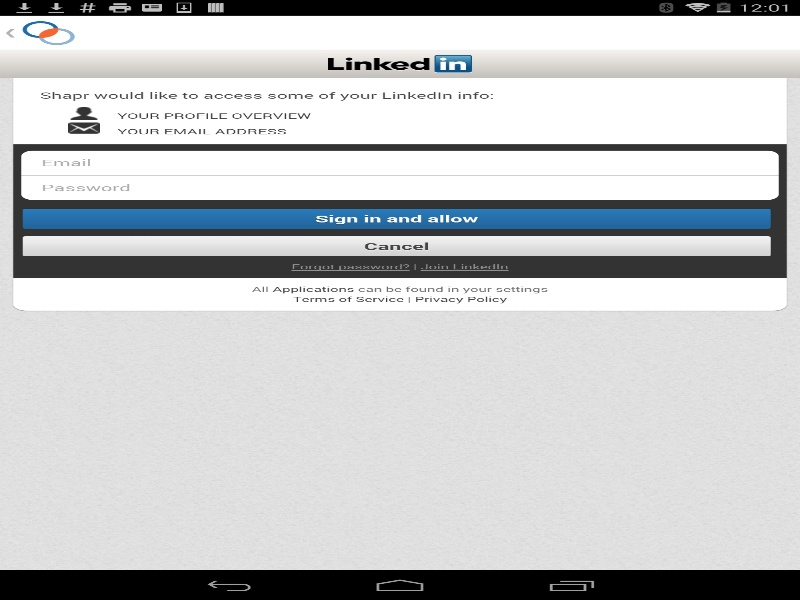Button: (21, 208, 772, 229)
Input: (21, 150, 778, 175), (21, 175, 778, 200)
